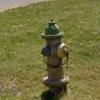Hydrant: (34, 15, 82, 100)
